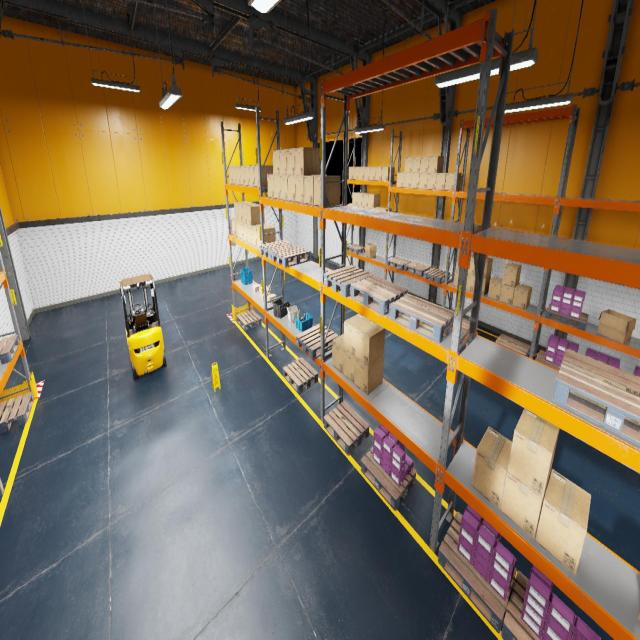box: (535, 469, 591, 574), (508, 408, 560, 498), (471, 426, 512, 509), (500, 471, 550, 539), (597, 309, 636, 344), (355, 321, 385, 366), (344, 313, 371, 357), (354, 356, 384, 394), (314, 176, 340, 207), (294, 147, 320, 175), (512, 284, 532, 310), (502, 262, 521, 287), (304, 175, 320, 204), (256, 225, 276, 248), (343, 348, 355, 384), (332, 334, 343, 373), (254, 165, 273, 187), (252, 224, 270, 247), (475, 257, 493, 279), (500, 284, 518, 305), (246, 205, 264, 225), (473, 276, 491, 296), (488, 277, 502, 301), (242, 204, 258, 224), (234, 202, 250, 220), (445, 173, 461, 190), (238, 203, 252, 222), (428, 156, 444, 172), (295, 175, 304, 203), (468, 253, 478, 276), (287, 148, 295, 175), (288, 176, 296, 202), (279, 149, 287, 175), (280, 175, 288, 200), (364, 243, 377, 258), (272, 150, 280, 174), (435, 173, 446, 190), (267, 174, 274, 198), (368, 194, 380, 207), (382, 167, 394, 180), (418, 173, 428, 188), (466, 274, 474, 292), (427, 173, 436, 189), (420, 156, 429, 172), (363, 193, 374, 206), (357, 192, 368, 205), (274, 175, 280, 198), (396, 172, 404, 188), (412, 157, 420, 172), (404, 157, 412, 172), (411, 173, 419, 188), (404, 173, 412, 188), (352, 192, 361, 205), (242, 223, 248, 242), (453, 268, 459, 287), (249, 165, 254, 186), (244, 166, 249, 186), (240, 165, 245, 185), (247, 225, 252, 244), (375, 167, 382, 180), (232, 166, 237, 184), (228, 166, 233, 184), (260, 292, 270, 300), (370, 167, 376, 180), (358, 167, 364, 180), (267, 294, 276, 302), (262, 285, 270, 294), (236, 166, 240, 184), (239, 221, 243, 239), (235, 220, 239, 238), (232, 218, 236, 235), (364, 167, 369, 180), (253, 284, 261, 291), (379, 207, 392, 211), (354, 167, 358, 180), (259, 286, 267, 292), (349, 167, 353, 179), (374, 207, 384, 210), (638, 612, 640, 621)
forklift: (120, 273, 166, 379)
pallets: (438, 511, 516, 633), (552, 349, 640, 446), (361, 447, 416, 511), (390, 294, 454, 342), (501, 571, 544, 639), (324, 401, 369, 455), (350, 275, 408, 315), (324, 265, 374, 297), (296, 324, 338, 359), (0, 391, 34, 434), (282, 358, 318, 393), (545, 303, 588, 330), (272, 245, 310, 268), (495, 334, 531, 356), (259, 240, 295, 260), (0, 335, 20, 364), (236, 309, 262, 331), (535, 350, 560, 370), (423, 267, 450, 284), (404, 261, 430, 276), (386, 257, 411, 270), (347, 244, 365, 254), (462, 318, 469, 330)
